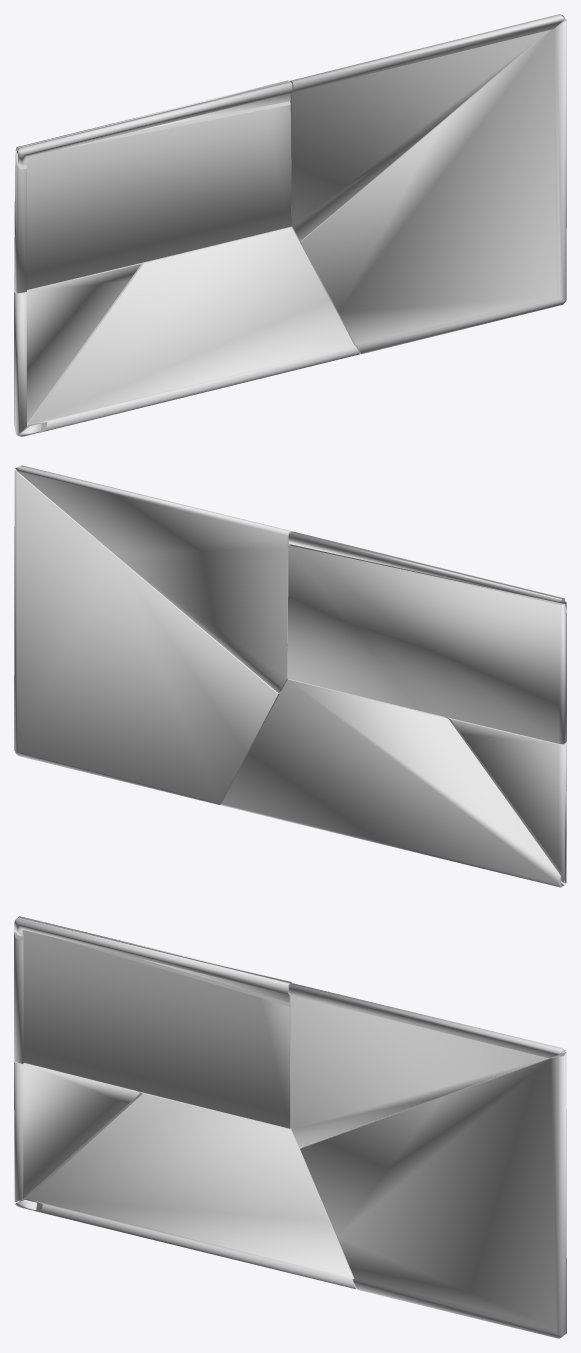
File: fracturedScreen.fbx
The picture shows the model from 3 angles, top to bottom: view 1: azimuth 30°, elevation 25°; view 2: azimuth 150°, elevation 25°; view 3: azimuth 330°, elevation 25°; orthographic projection.
Parts seen in each view (by area): view 1: screen.002_cell, screen.002_cell.002, screen.002_cell.008, screen.002_cell.003, screen.002_cell.006, screen.002_cell.001, screen.002_cell.009; view 2: screen.002_cell, screen.002_cell.002, screen.002_cell.008, screen.002_cell.003, screen.002_cell.006, screen.002_cell.009, screen.002_cell.001; view 3: screen.002_cell, screen.002_cell.002, screen.002_cell.008, screen.002_cell.003, screen.002_cell.006, screen.002_cell.001, screen.002_cell.009.
Part boxes in pixels (x1=…): screen.002_cell: x1=299, y1=18, x2=566, y2=354; screen.002_cell.002: x1=14, y1=101, x2=291, y2=293; screen.002_cell.008: x1=16, y1=227, x2=359, y2=434; screen.002_cell.003: x1=289, y1=14, x2=564, y2=240; screen.002_cell.006: x1=14, y1=264, x2=140, y2=434; screen.002_cell.001: x1=16, y1=81, x2=292, y2=165; screen.002_cell.009: x1=15, y1=80, x2=288, y2=150; screen.002_cell: x1=14, y1=469, x2=280, y2=804; screen.002_cell.002: x1=287, y1=545, x2=566, y2=744; screen.002_cell.008: x1=221, y1=679, x2=561, y2=887; screen.002_cell.003: x1=15, y1=465, x2=291, y2=693; screen.002_cell.006: x1=445, y1=717, x2=566, y2=883; screen.002_cell.009: x1=288, y1=533, x2=563, y2=602; screen.002_cell.001: x1=290, y1=531, x2=566, y2=610; screen.002_cell: x1=300, y1=1052, x2=566, y2=1338; screen.002_cell.002: x1=14, y1=930, x2=291, y2=1128; screen.002_cell.008: x1=19, y1=1091, x2=356, y2=1289; screen.002_cell.003: x1=289, y1=983, x2=565, y2=1147; screen.002_cell.006: x1=14, y1=1062, x2=139, y2=1202; screen.002_cell.001: x1=14, y1=917, x2=290, y2=1002; screen.002_cell.009: x1=18, y1=916, x2=291, y2=983.
Bounding box in the file's own units: 106 × 53.02 × 1.53.
